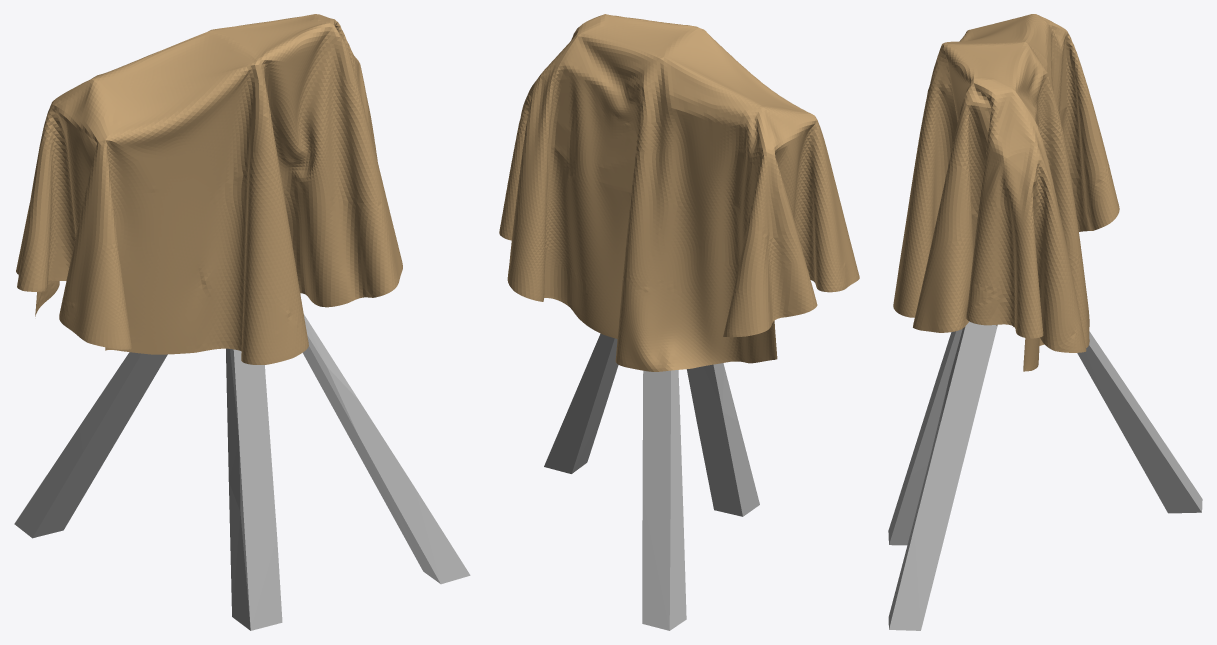
Rendered from level_3.glb.
3 views of the same model, side by side, from view 1: azimuth 30°, elevation 25°; view 2: azimuth 150°, elevation 25°; view 3: azimuth 270°, elevation 25° (orthographic). The views are drawn at different scales.
Parts seen in each view (by area): view 1: world, object.obj; view 2: world, object.obj; view 3: world, object.obj.
Boxes of the visible parts, x1=… form: world: x1=16, y1=14, x2=402, y2=364; object.obj: x1=14, y1=314, x2=470, y2=630; world: x1=499, y1=14, x2=859, y2=371; object.obj: x1=544, y1=333, x2=759, y2=630; world: x1=893, y1=14, x2=1119, y2=371; object.obj: x1=888, y1=321, x2=1202, y2=630.
Bounding box in the file's own units: 0.2871 × 0.4064 × 0.2274.
